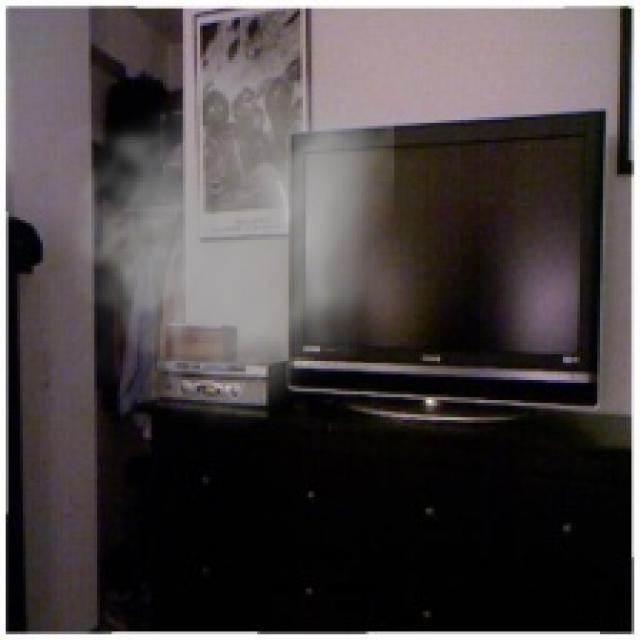smoke: (34, 20, 394, 437)
